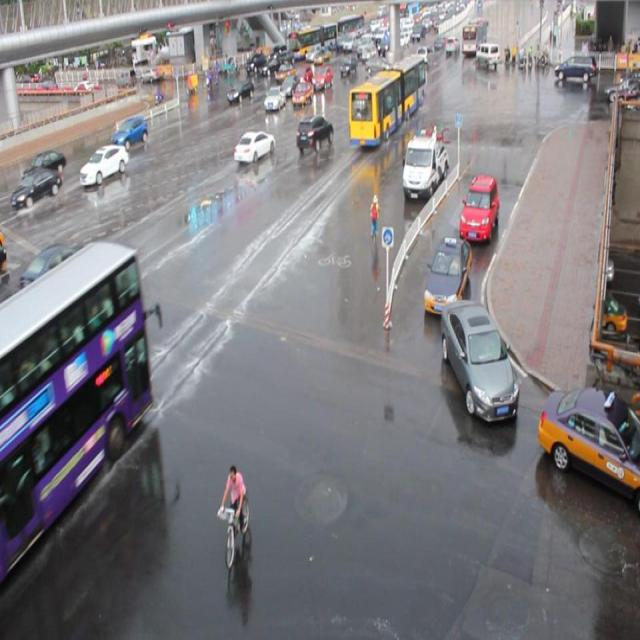bus: (401, 128, 448, 198)
car: (536, 385, 640, 512), (440, 297, 518, 421), (18, 244, 95, 315), (423, 234, 471, 314), (458, 173, 499, 241), (12, 166, 63, 211), (80, 143, 129, 185), (21, 148, 67, 183), (296, 112, 334, 152), (234, 129, 275, 164), (112, 114, 150, 150), (227, 78, 254, 106), (292, 79, 314, 107), (360, 76, 382, 104), (264, 85, 286, 111), (280, 74, 300, 97)
van: (0, 241, 154, 589), (348, 54, 426, 147)
